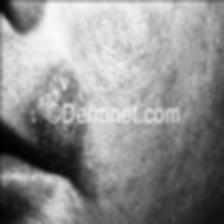Toxin: (36, 64, 82, 100), (32, 104, 46, 124)
